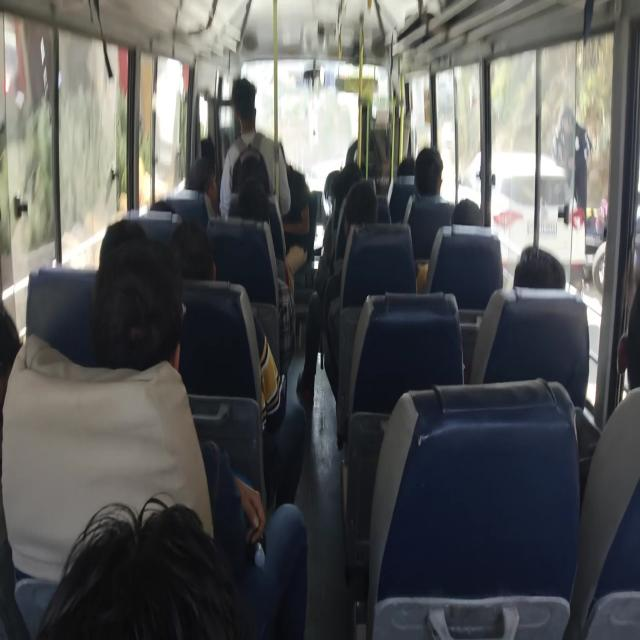person: (72, 497, 262, 640), (109, 254, 182, 342), (516, 248, 588, 306), (272, 155, 316, 247), (100, 206, 146, 271), (230, 187, 270, 244), (0, 300, 28, 374), (182, 222, 228, 267), (230, 78, 263, 133), (344, 188, 383, 234), (416, 147, 456, 191), (194, 154, 226, 200), (456, 192, 494, 228), (626, 285, 640, 359), (241, 158, 266, 187), (342, 154, 366, 184), (152, 188, 178, 215), (333, 167, 350, 192)
